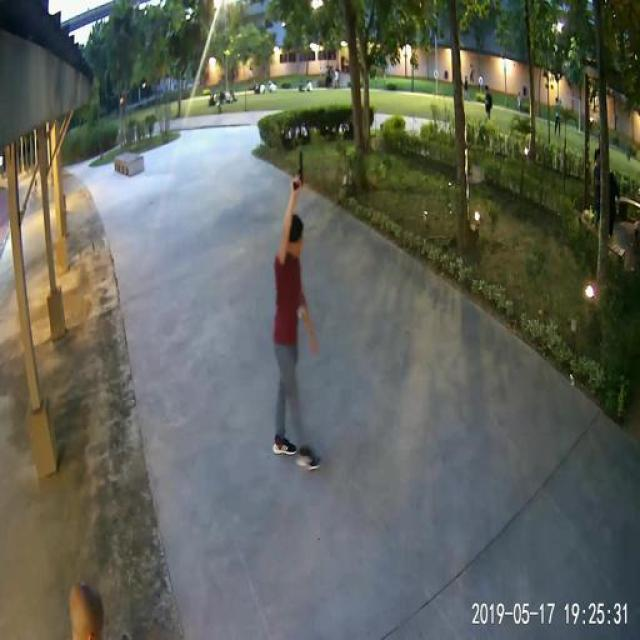Gun: (289, 145, 317, 195)
